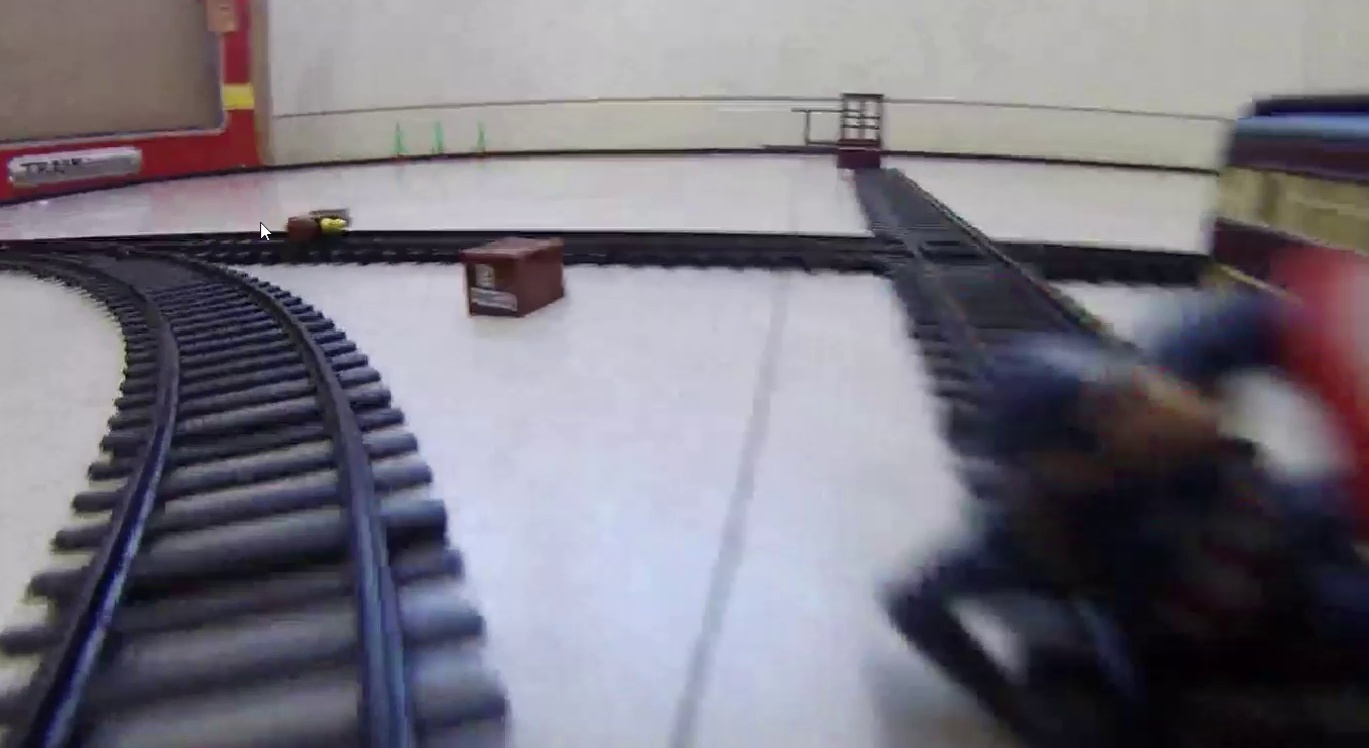box: (464, 233, 559, 317)
